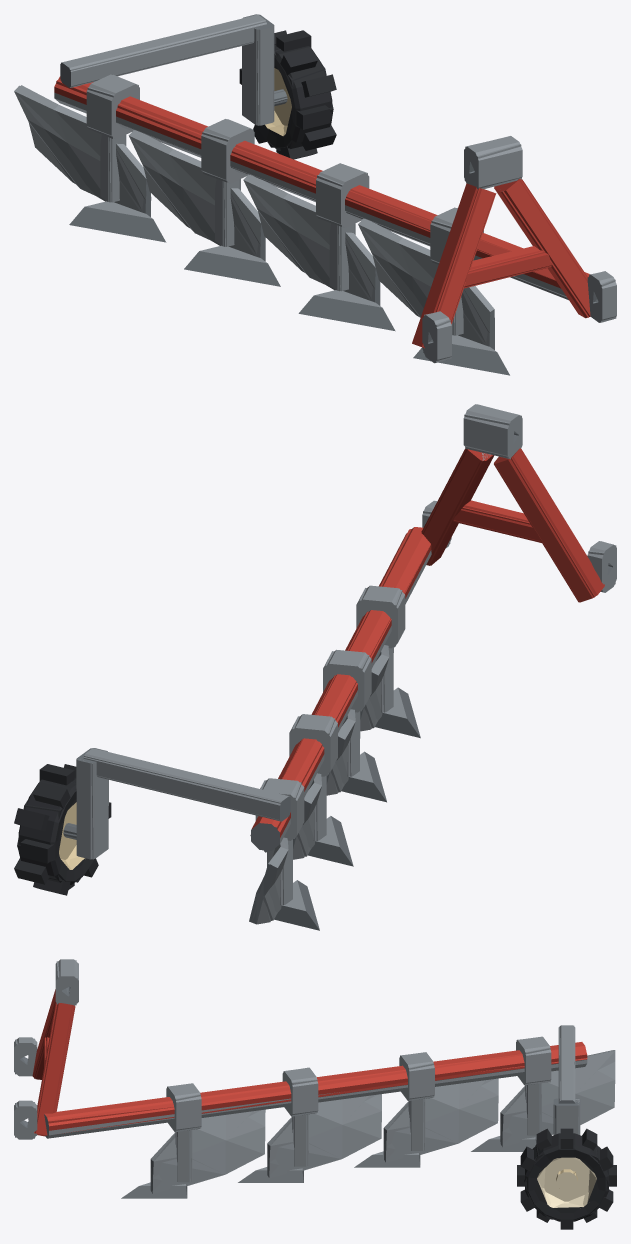
File: FMS_Mach_Plough.fbx
3 renders of one model, top to bottom at view 1: azimuth 30°, elevation 25°; view 2: azimuth 150°, elevation 25°; view 3: azimuth 270°, elevation 25°, orthographic. The views are drawn at different scales.
Visible parts, largest first — view 1: Frame, Frame_Low1, Wheel_Gauge, Wheel_Gauge_Low1; view 2: Frame, Frame_Low1, Wheel_Gauge, Wheel_Gauge_Low1; view 3: Frame, Frame_Low1, Wheel_Gauge, Wheel_Gauge_Low1.
Boxes of the visible parts, x1,y1,x2,y2 form: Frame: [14, 14, 616, 375]; Frame_Low1: [14, 14, 616, 362]; Wheel_Gauge: [239, 30, 336, 158]; Wheel_Gauge_Low1: [253, 31, 335, 159]; Frame: [63, 404, 616, 930]; Frame_Low1: [63, 404, 616, 929]; Wheel_Gauge: [14, 764, 111, 895]; Wheel_Gauge_Low1: [14, 764, 98, 893]; Frame: [14, 959, 615, 1198]; Frame_Low1: [15, 960, 615, 1193]; Wheel_Gauge: [517, 1128, 616, 1229]; Wheel_Gauge_Low1: [520, 1128, 611, 1229].
Bounding box in the file's own units: 1.44 × 1.4 × 3.62.
